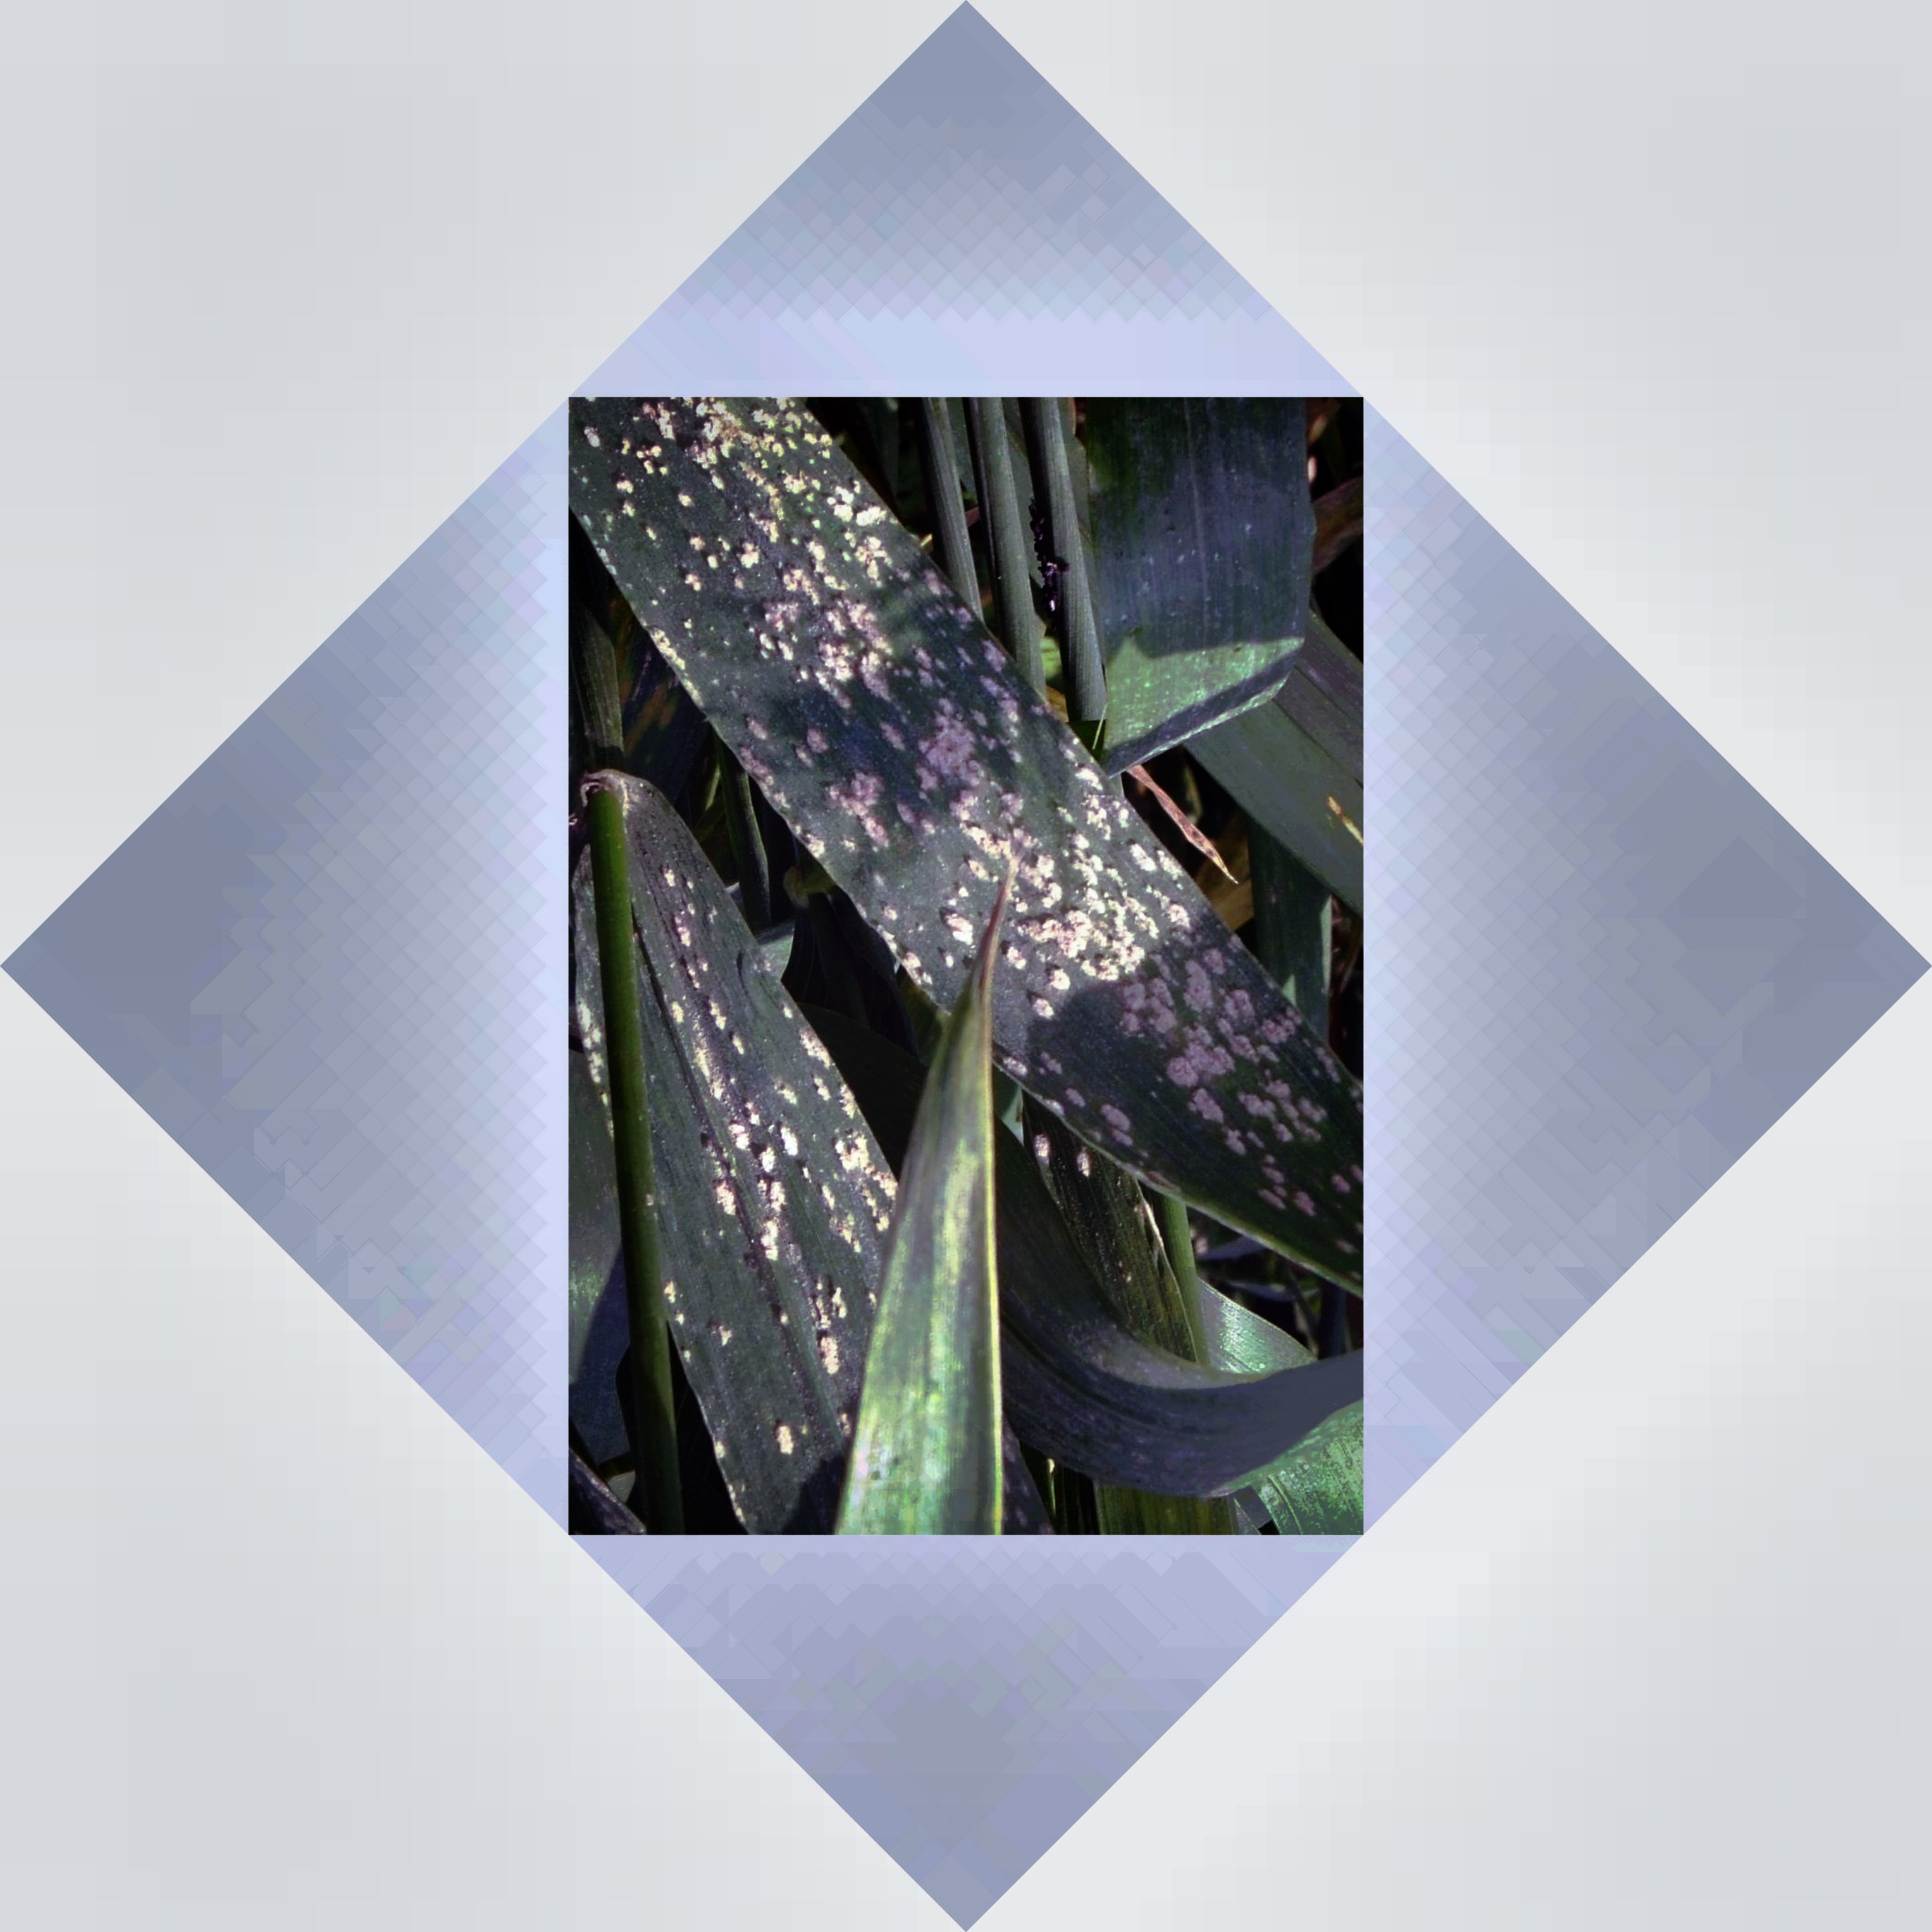Powdery Mildew: (695, 472, 1306, 1155)
